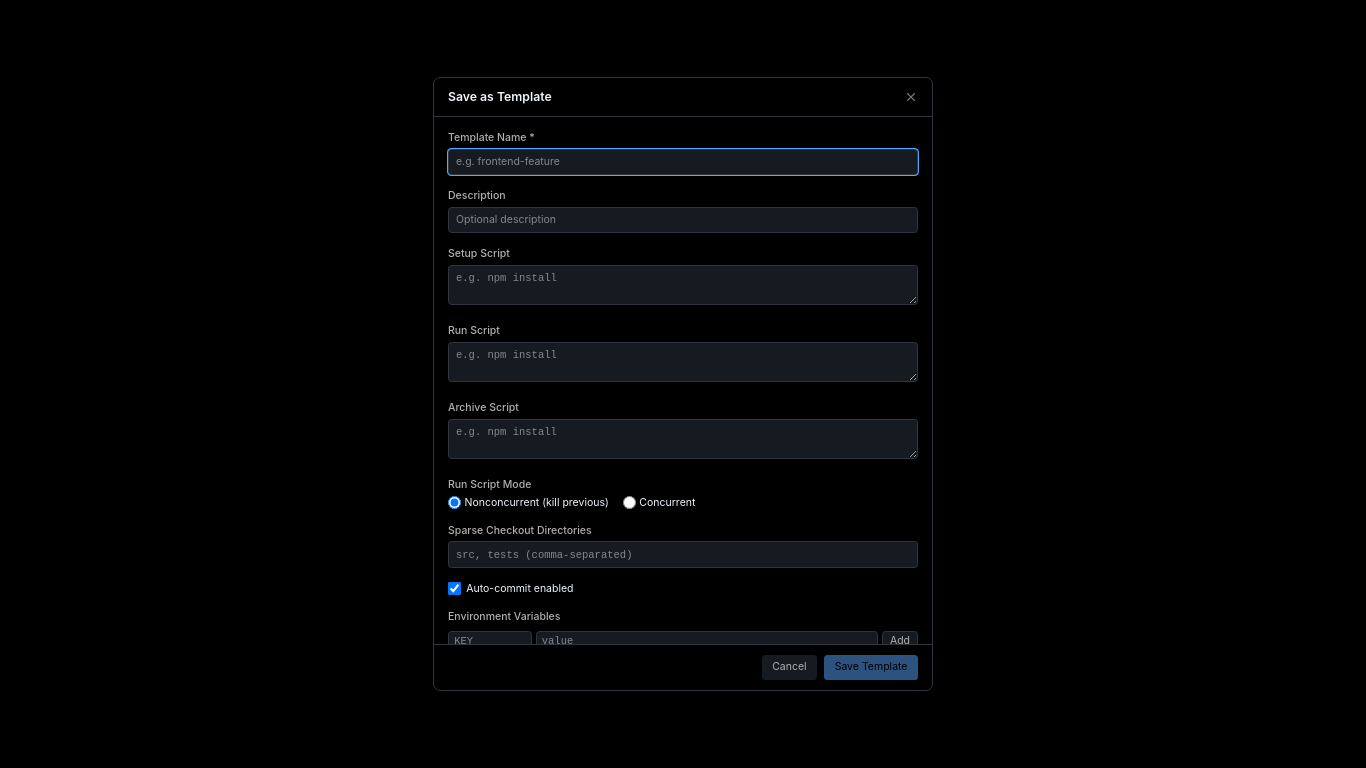
Test case: WorkspaceTemplateDialog › enables save button when name is entered
The image size is (1366, 768).
Type "my-template" into the field with placeholder "e.g. frontend-feature". click: (683, 162)
box: [448, 149, 918, 175]
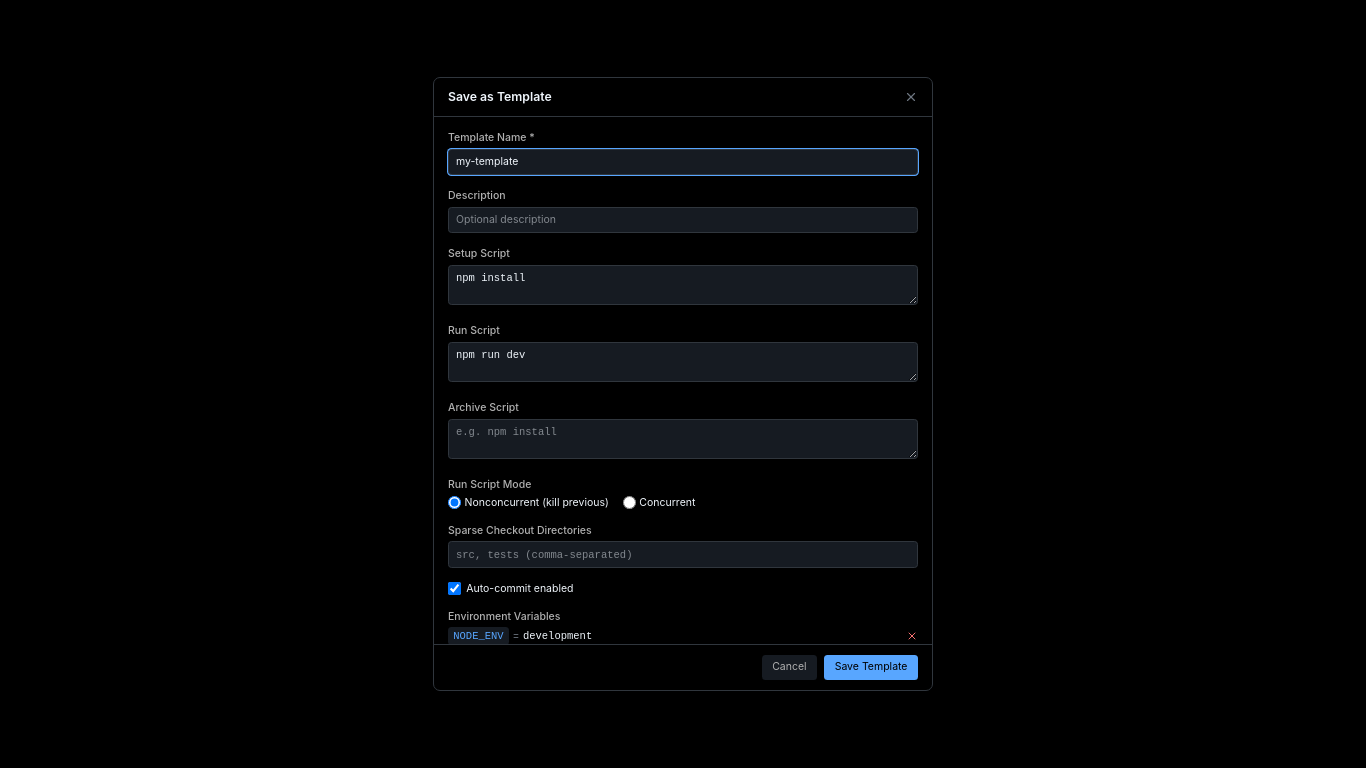
Expected: the button "Save Template" is enabled, [824, 655, 918, 680]
